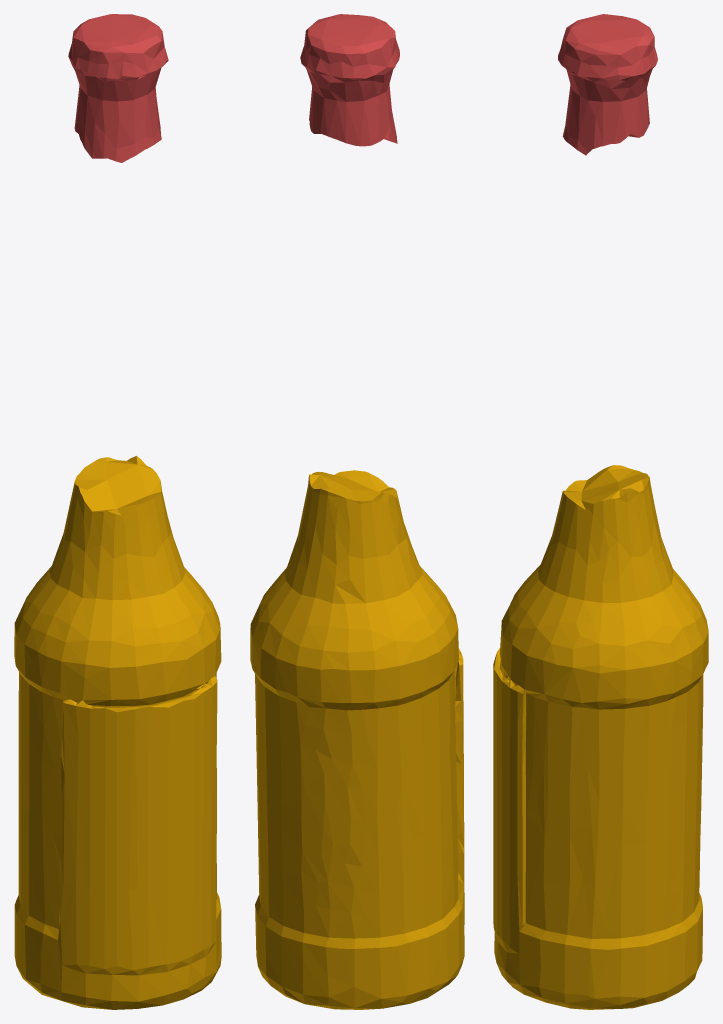
The model's file is fractured_41_2pcs_transformed.glb.
3 views of the same model, side by side, from view 1: azimuth 30°, elevation 25°; view 2: azimuth 150°, elevation 25°; view 3: azimuth 270°, elevation 25° (orthographic).
Parts seen in each view (by area): view 1: piece_0.obj, piece_1.obj; view 2: piece_0.obj, piece_1.obj; view 3: piece_0.obj, piece_1.obj.
Boxes of the visible parts, bbox=[...] form: piece_0.obj: bbox=[14, 456, 221, 1009]; piece_1.obj: bbox=[68, 14, 168, 162]; piece_0.obj: bbox=[250, 470, 464, 1009]; piece_1.obj: bbox=[300, 14, 399, 146]; piece_0.obj: bbox=[493, 465, 708, 1009]; piece_1.obj: bbox=[558, 14, 657, 155].
Size of the model in its own units: 0.3241 by 1.6 by 0.3307.
